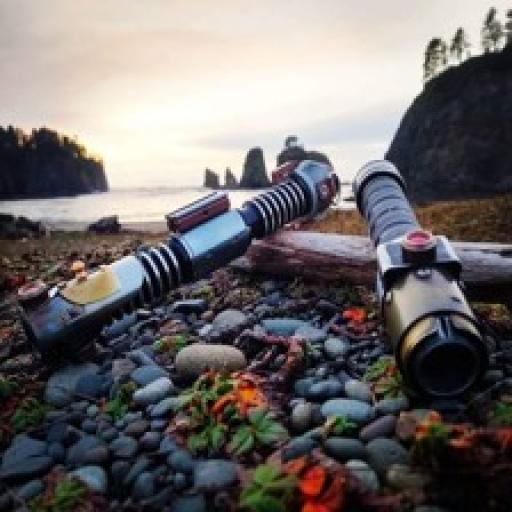lightsaber: (14, 154, 340, 364), (349, 157, 496, 404)
